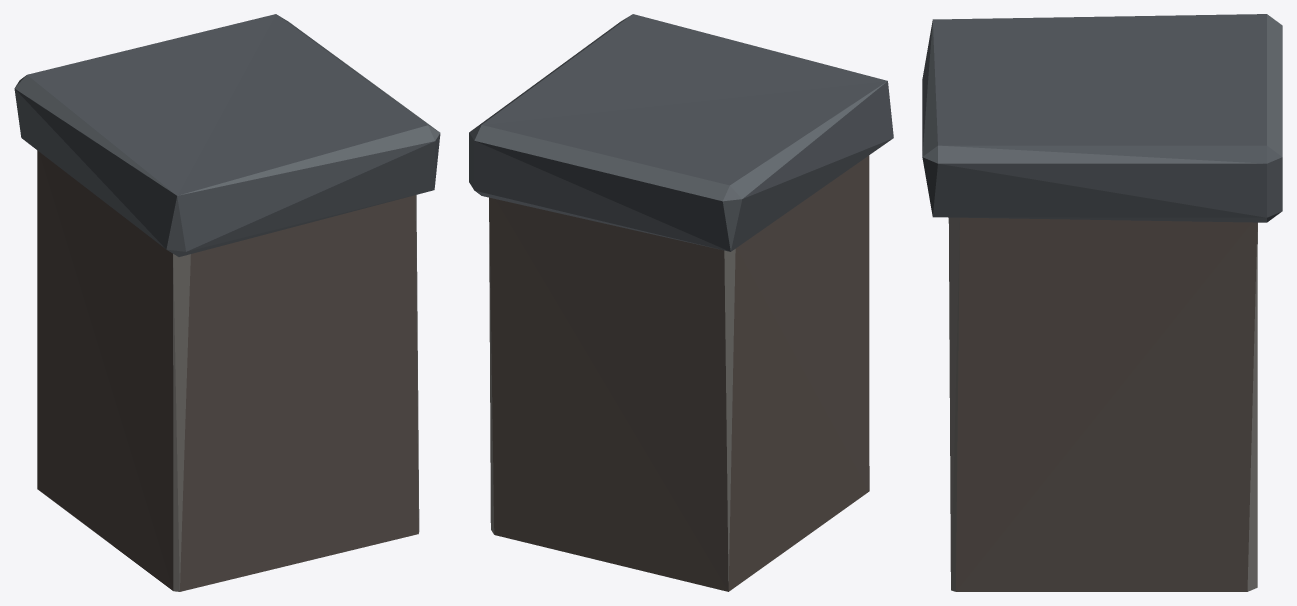
File: MCastle_MasonryPillar_01_Half.FBX
3 renders of one model, left to right at view 1: azimuth 30°, elevation 25°; view 2: azimuth 150°, elevation 25°; view 3: azimuth 270°, elevation 25°, orthographic. The views are drawn at different scales.
Parts seen in each view (by area): view 1: MCastle_MasonryPillar_01_Half_LOD0; view 2: MCastle_MasonryPillar_01_Half_LOD0; view 3: MCastle_MasonryPillar_01_Half_LOD0.
Part boxes in pixels (<box>): MCastle_MasonryPillar_01_Half_LOD0: <box>14,14,440,591</box>; MCastle_MasonryPillar_01_Half_LOD0: <box>469,14,893,591</box>; MCastle_MasonryPillar_01_Half_LOD0: <box>922,14,1282,591</box>.
Size of what is drawn, in the model's own units: 1.67 by 2.41 by 1.76.
